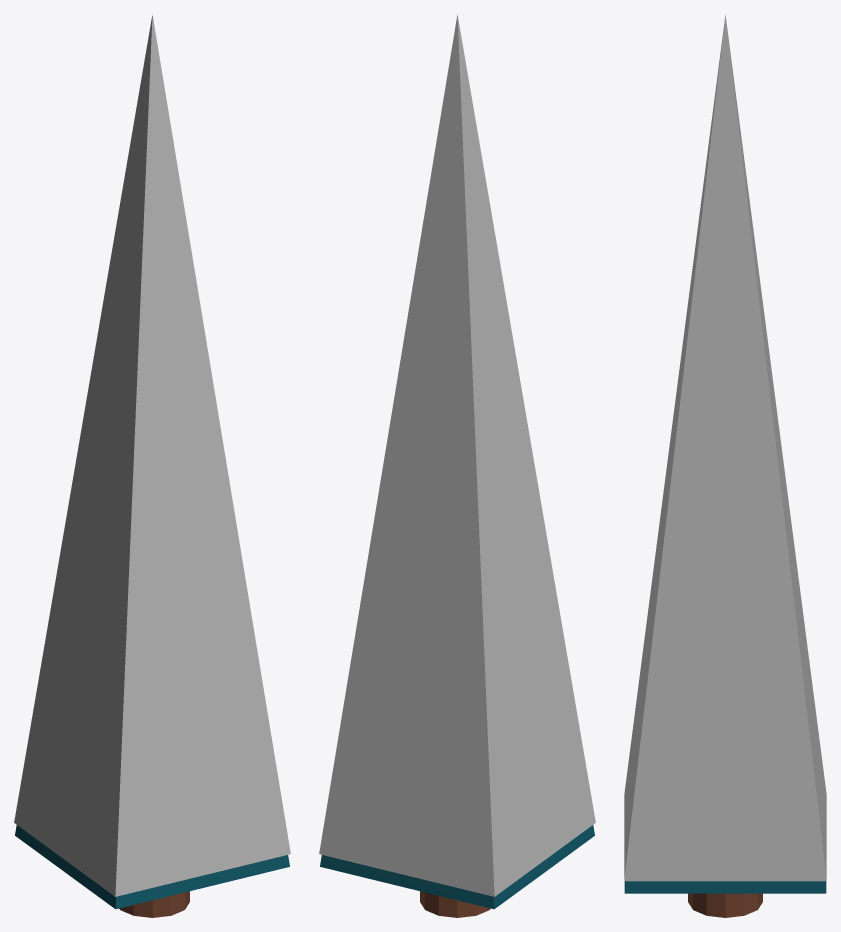
The model's file is Tree_19_winter_gradient_blue_vc.fbx.
3 renders of one model, left to right at view 1: azimuth 30°, elevation 25°; view 2: azimuth 150°, elevation 25°; view 3: azimuth 270°, elevation 25°, orthographic.
Parts seen in each view (by area): view 1: Tree_19_winter_gradient_blue_vc; view 2: Tree_19_winter_gradient_blue_vc; view 3: Tree_19_winter_gradient_blue_vc.
Part boxes in pixels (x1,y1,x2,y2): Tree_19_winter_gradient_blue_vc: (14,14,290,917); Tree_19_winter_gradient_blue_vc: (319,14,595,917); Tree_19_winter_gradient_blue_vc: (624,14,826,917).
Bounding box in the file's own units: 60.03 × 290 × 60.03.
